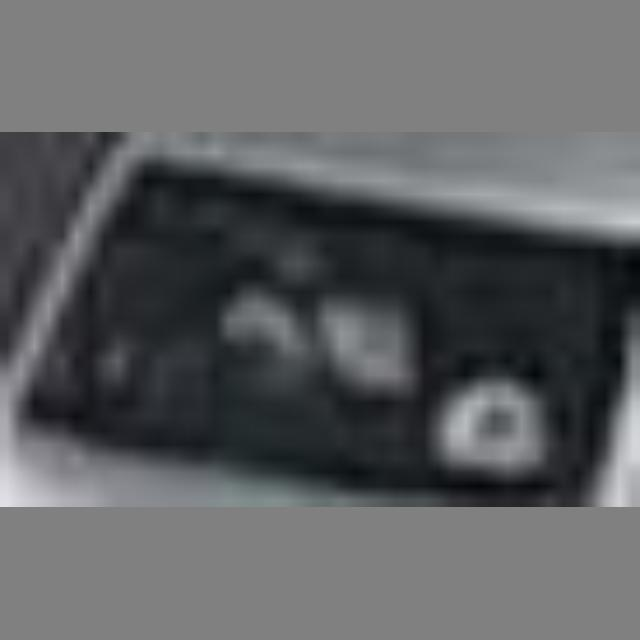pakai: (209, 215, 431, 424)
